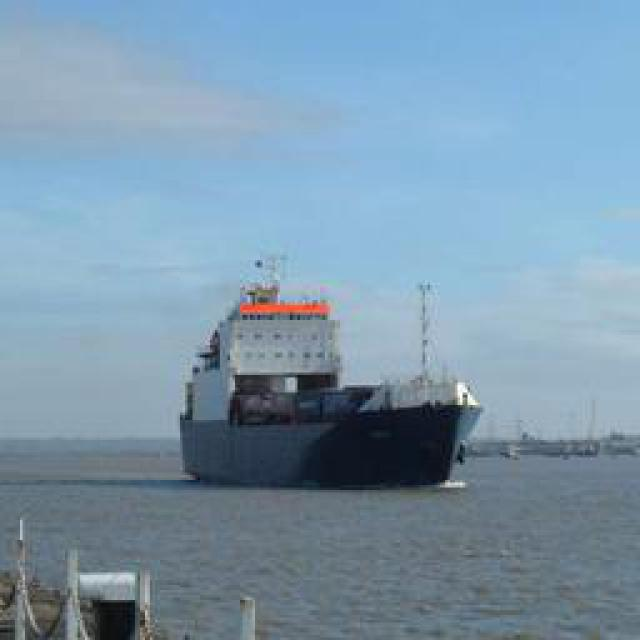Ship: (177, 261, 487, 491)
